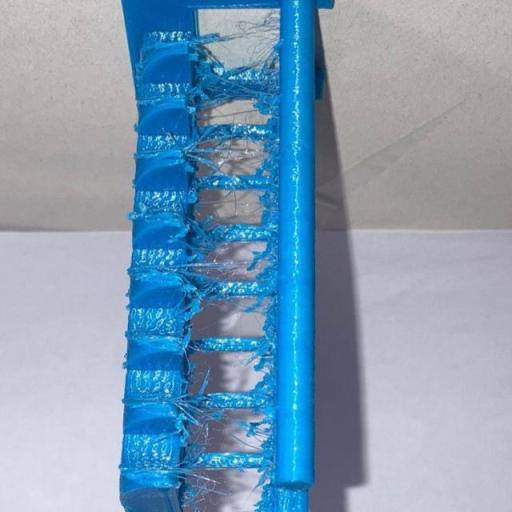stringing: (185, 254, 257, 276), (204, 144, 266, 168), (182, 474, 220, 507), (242, 11, 288, 38), (236, 418, 276, 445), (185, 406, 228, 430)
